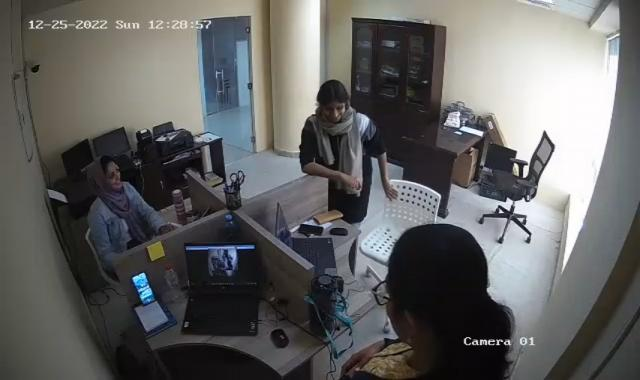no_hairnet: (374, 218, 504, 352), (92, 154, 126, 191), (320, 82, 350, 121)
